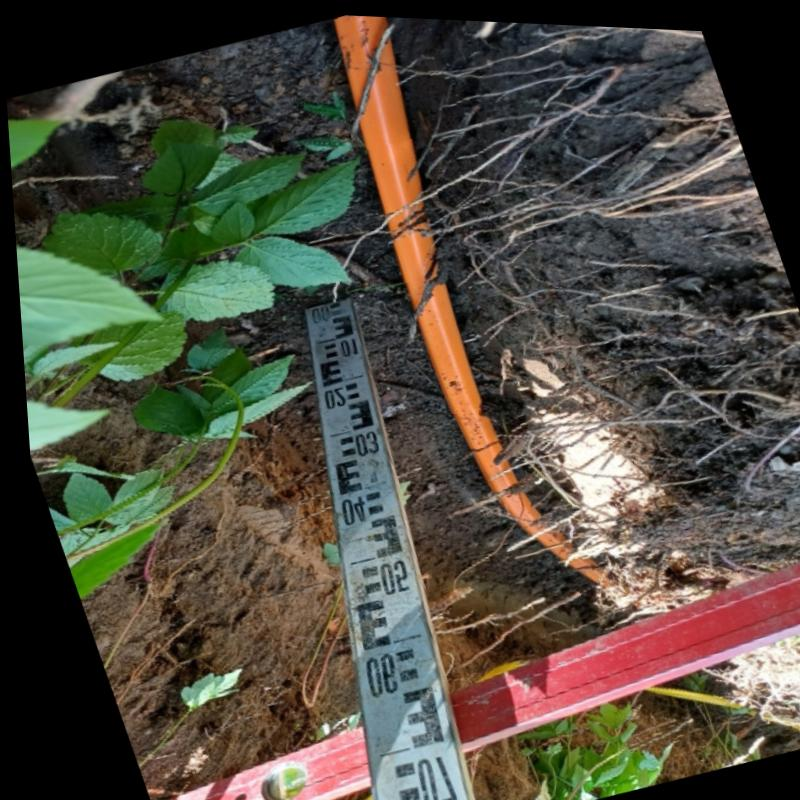Orang-Speednetrohrchen: (333, 12, 609, 586)
